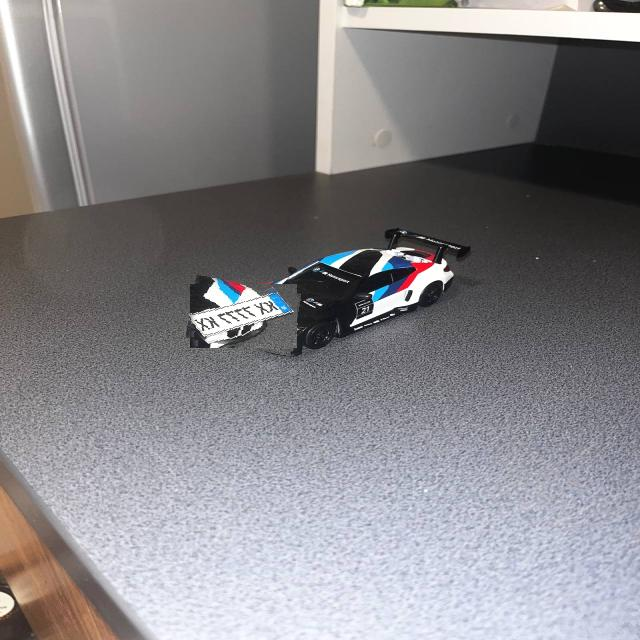KX 7777 KX: (189, 290, 299, 341)
